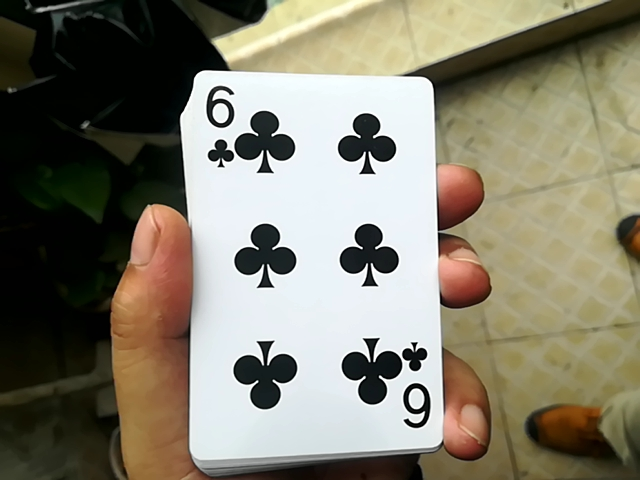mh 6: (166, 61, 447, 456)
